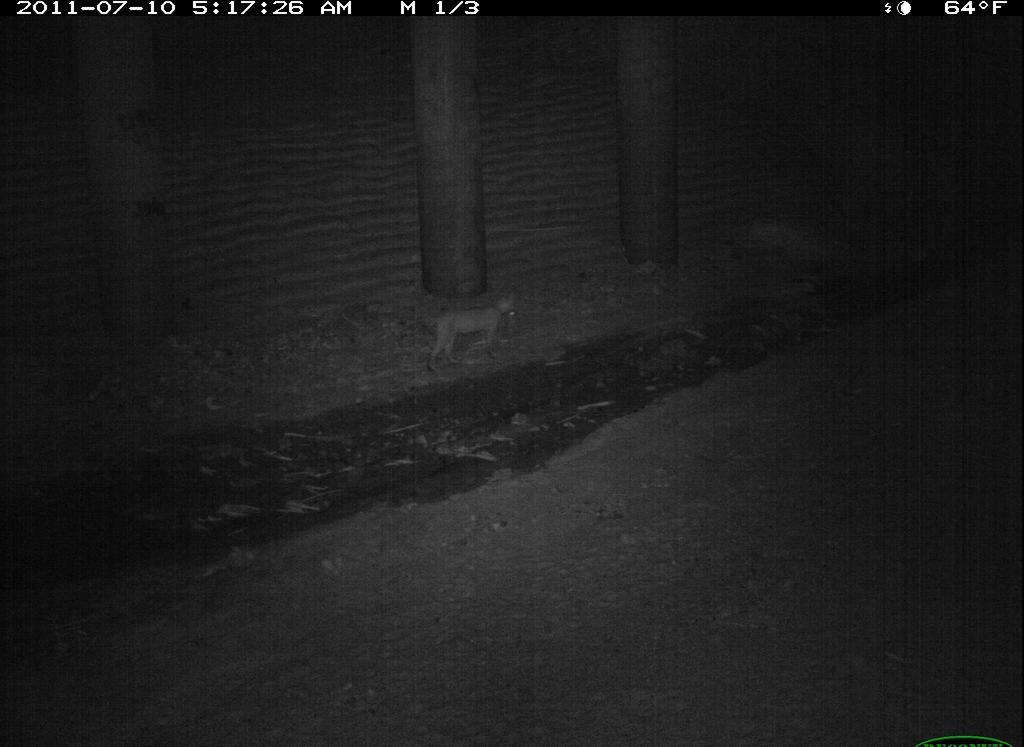bobcat: (843, 569, 1024, 747)
